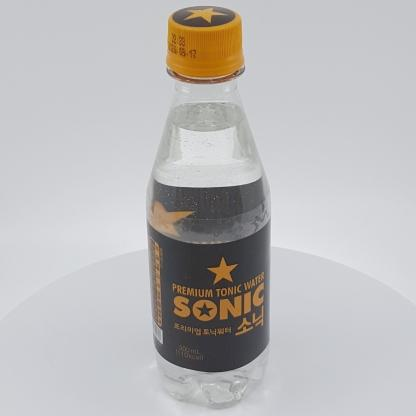----------------300ML: (145, 6, 271, 409)
